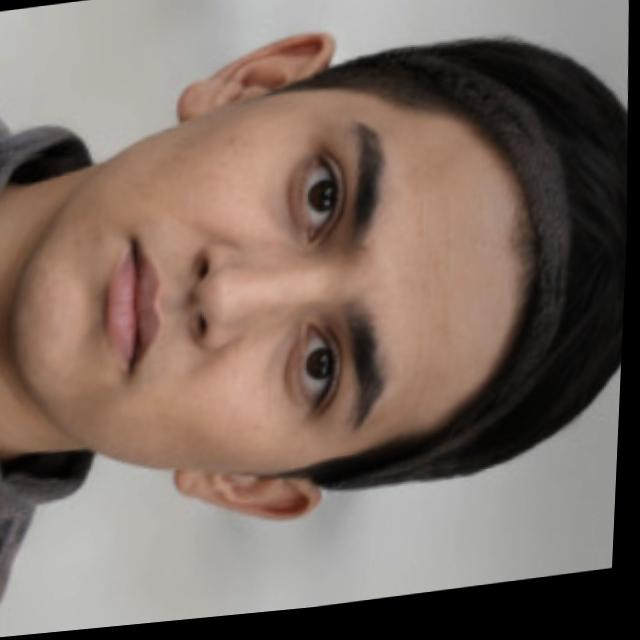natural: (5, 6, 638, 554)
